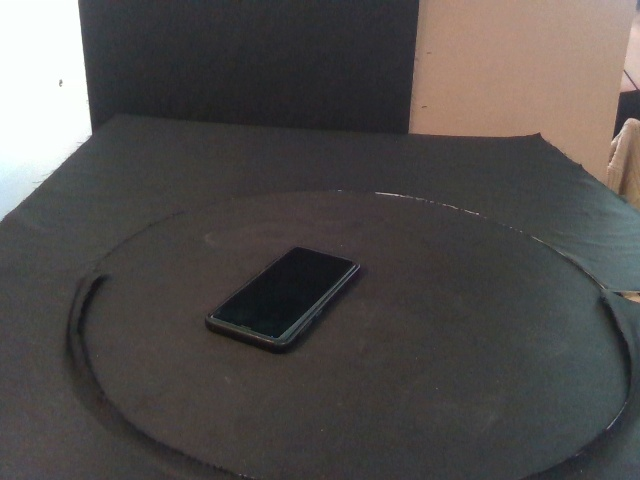phone: (204, 244, 363, 353)
